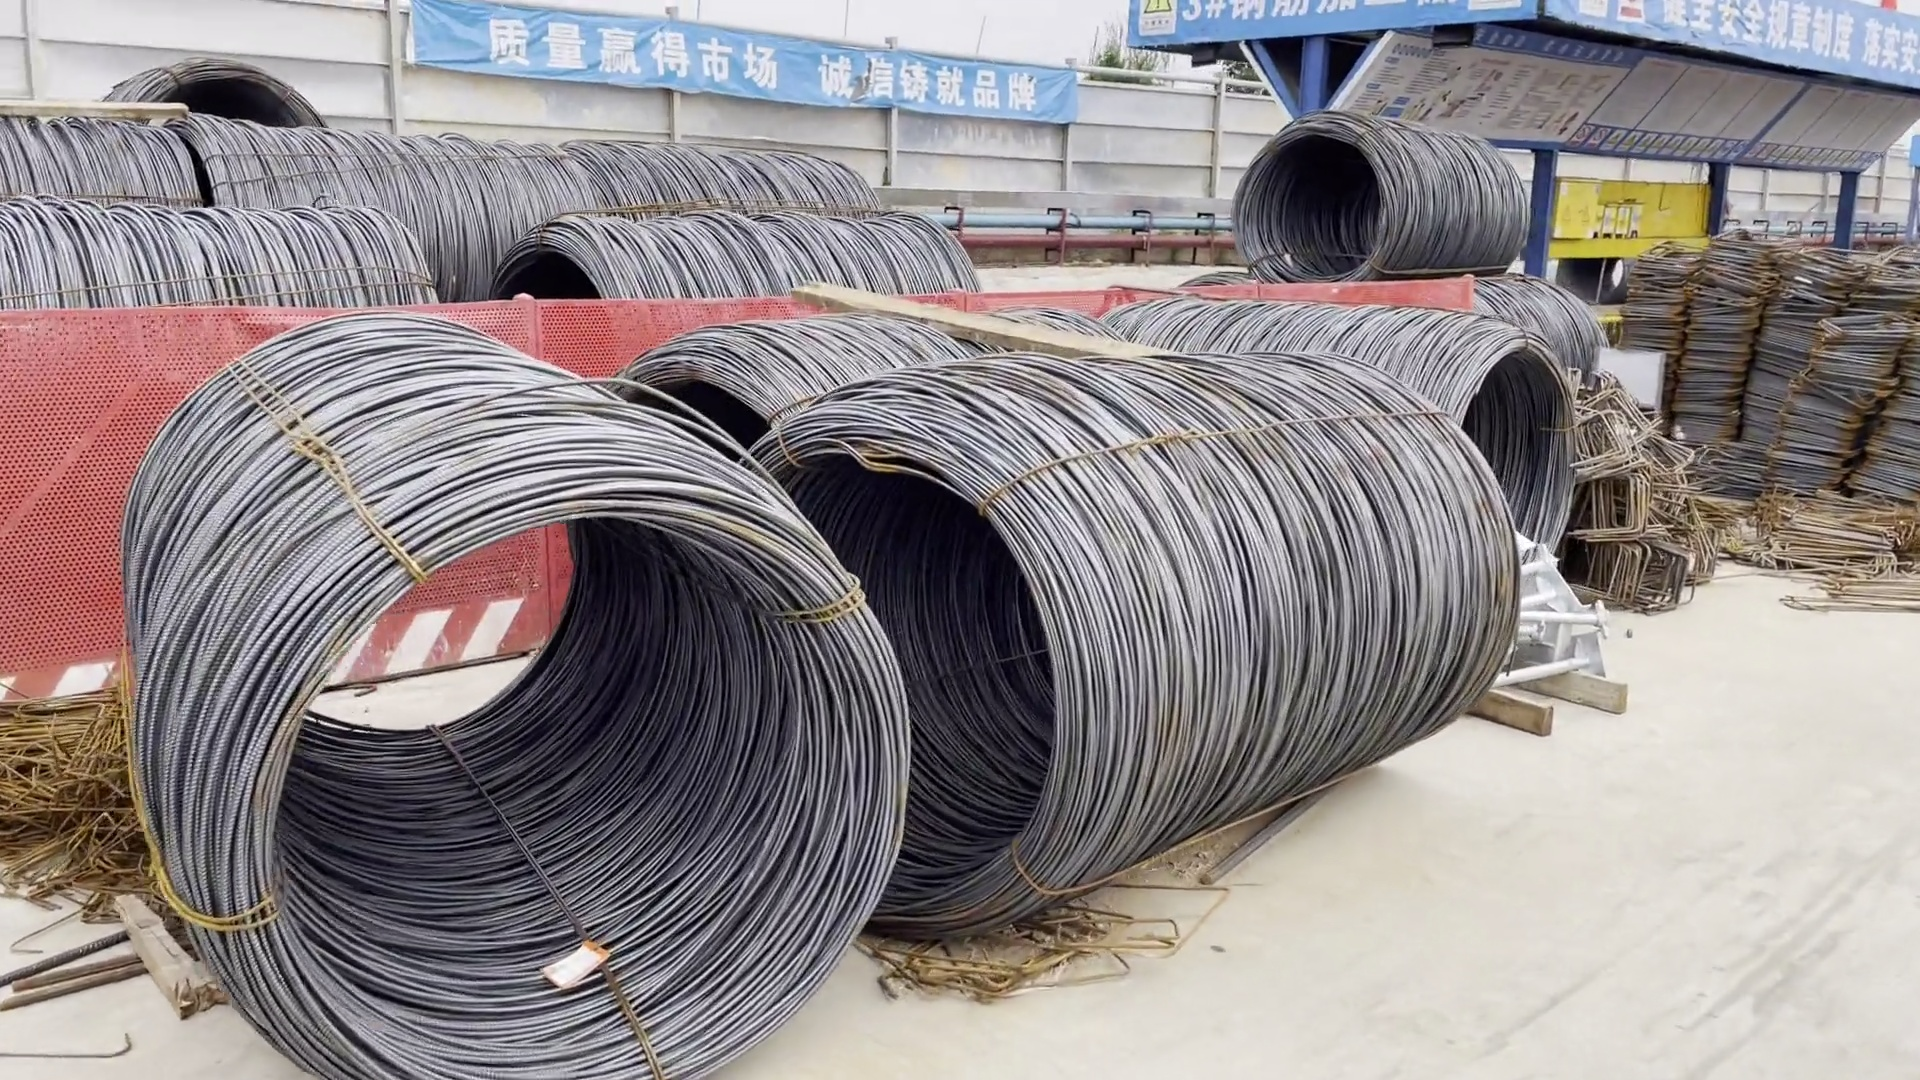ebox: (1534, 175, 1601, 237)
slogan: (477, 12, 1044, 127)
